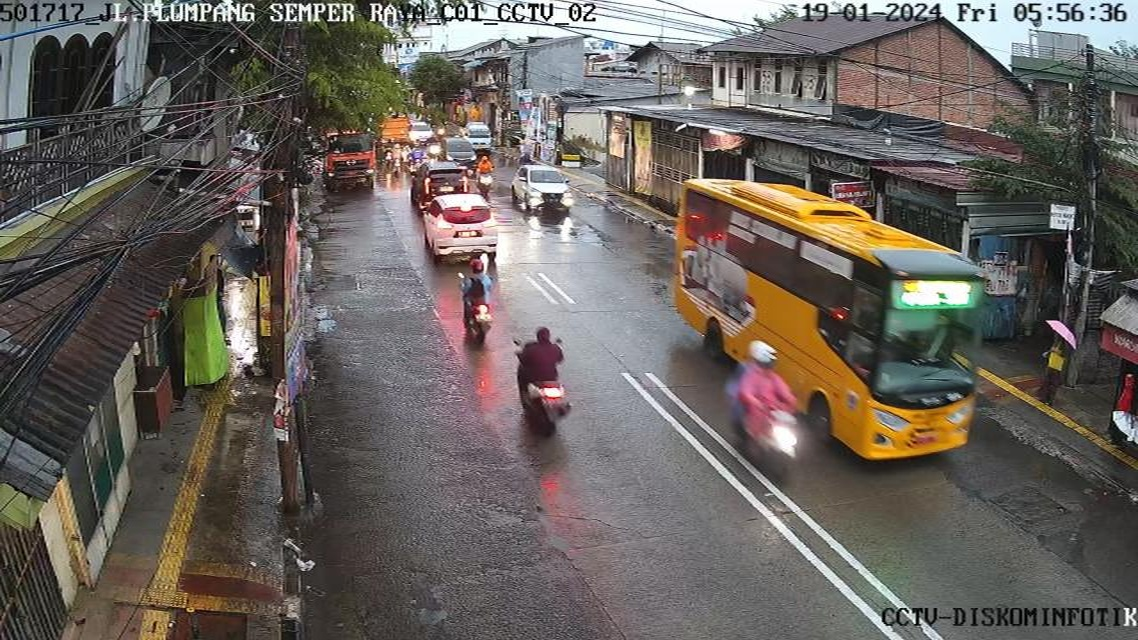Gerobak: (179, 286, 233, 381)
